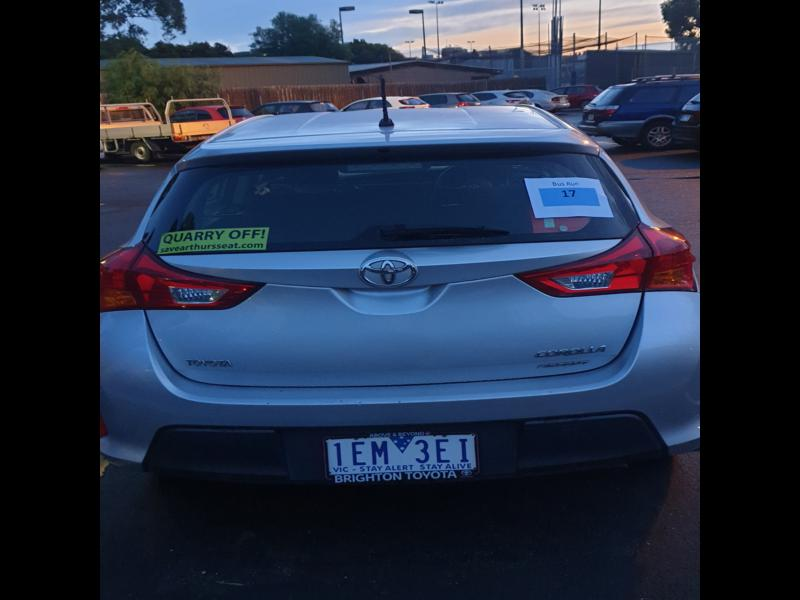BusRun: (539, 187, 599, 205)
PlateNo: (326, 435, 478, 474)
